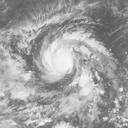cyclone: (41, 41, 74, 81)
